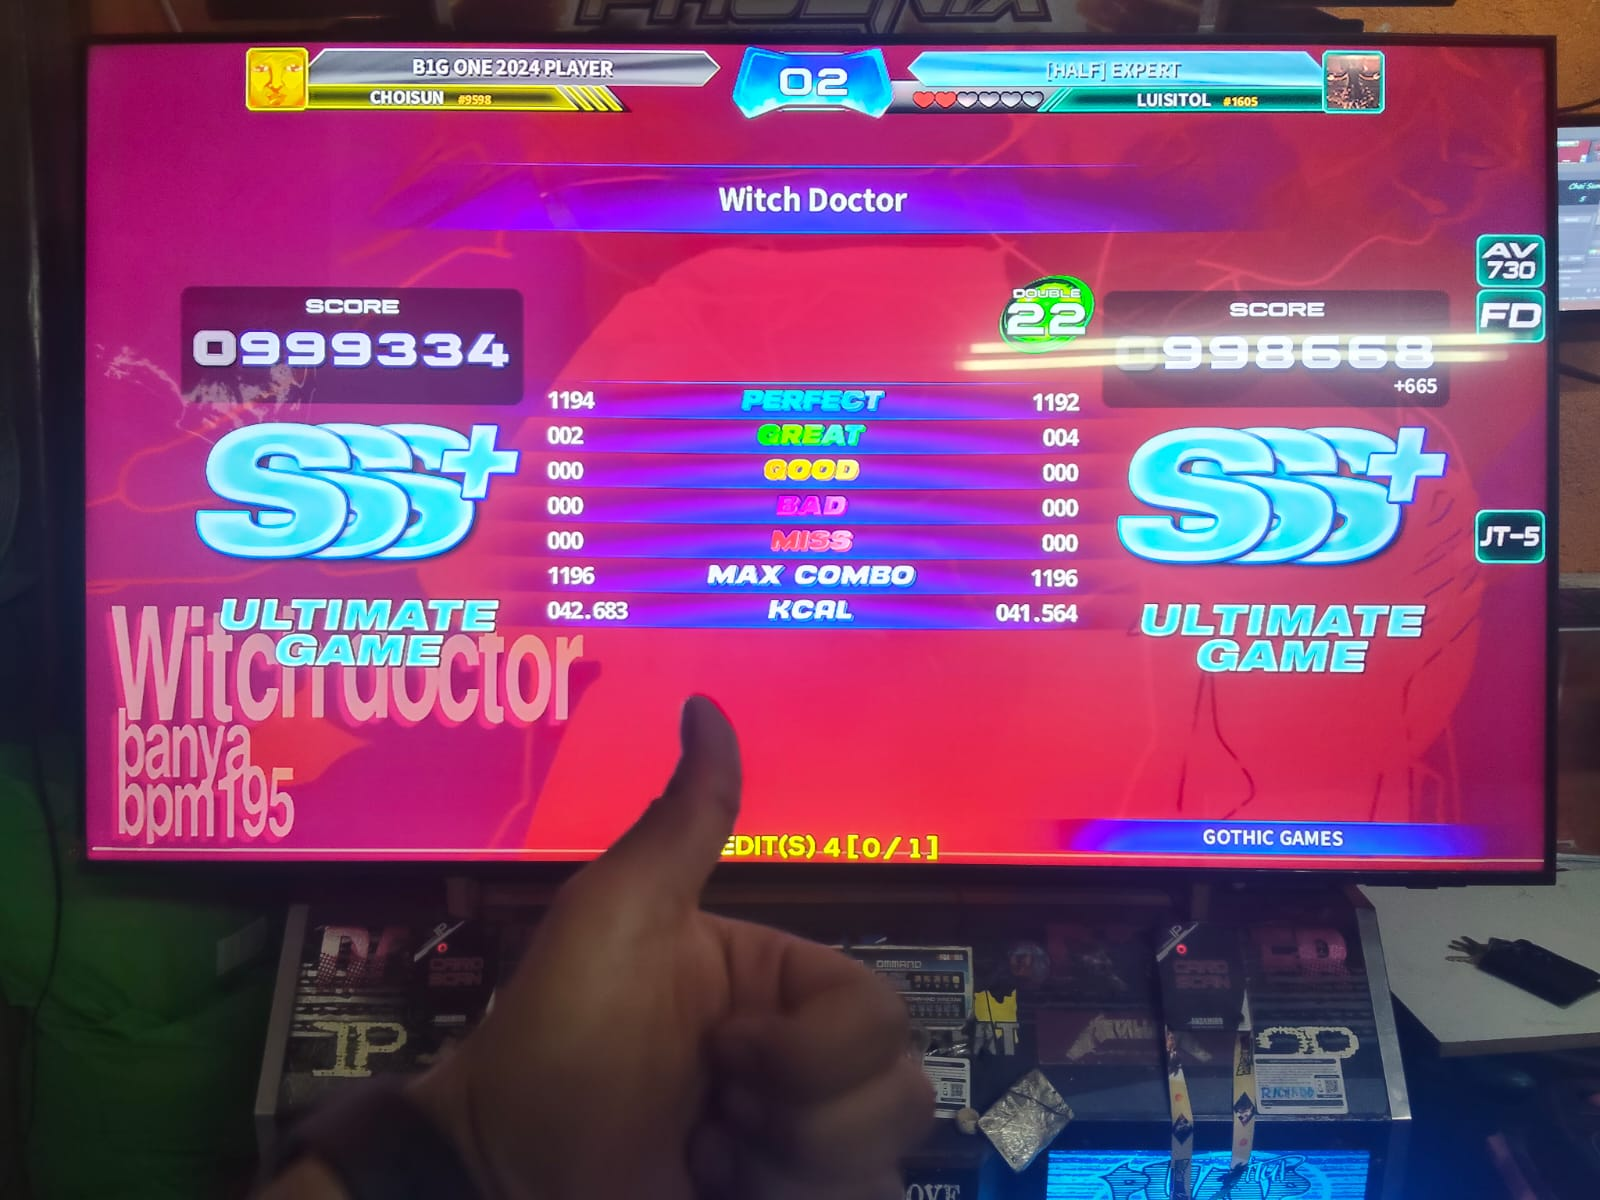difficulty: (1005, 276, 1085, 354)
fullscore: (557, 3, 1566, 818)
rank: (1125, 424, 1453, 594)
score: (1112, 280, 1494, 407)
song_name: (644, 149, 1099, 223)
